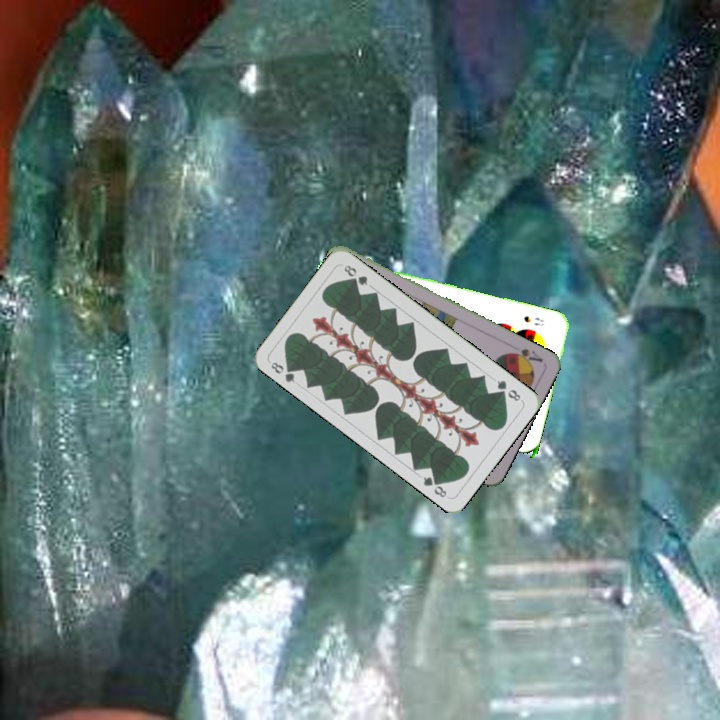G8: (493, 376, 523, 404), (267, 358, 298, 385)
S8: (520, 312, 547, 329)
SA: (505, 344, 545, 367)
